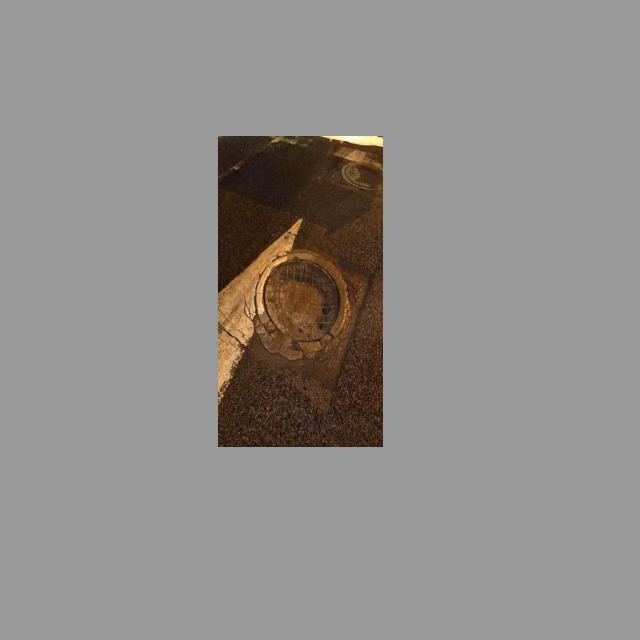circle: (230, 238, 368, 388)
